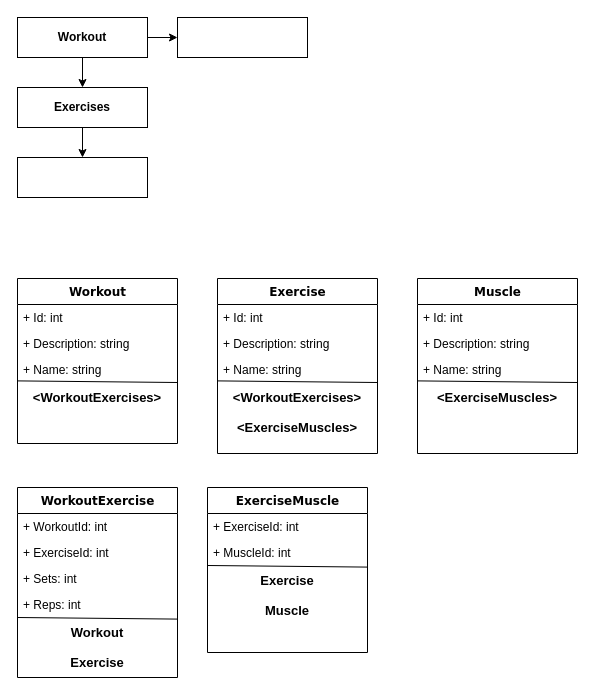
Image size: 597x695. Some labels were removed from this diagram. The centre of each missing label's shape, as x and y in pixels:
"Muscles" goes at pixel 82 177.
"Users" goes at pixel 242 37.
